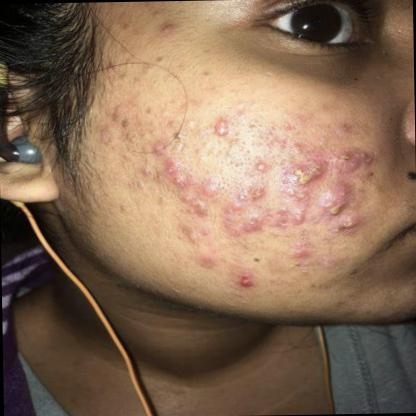Acne: (308, 187, 354, 221), (282, 157, 326, 190), (203, 110, 233, 143), (241, 182, 272, 209), (248, 154, 278, 177)
